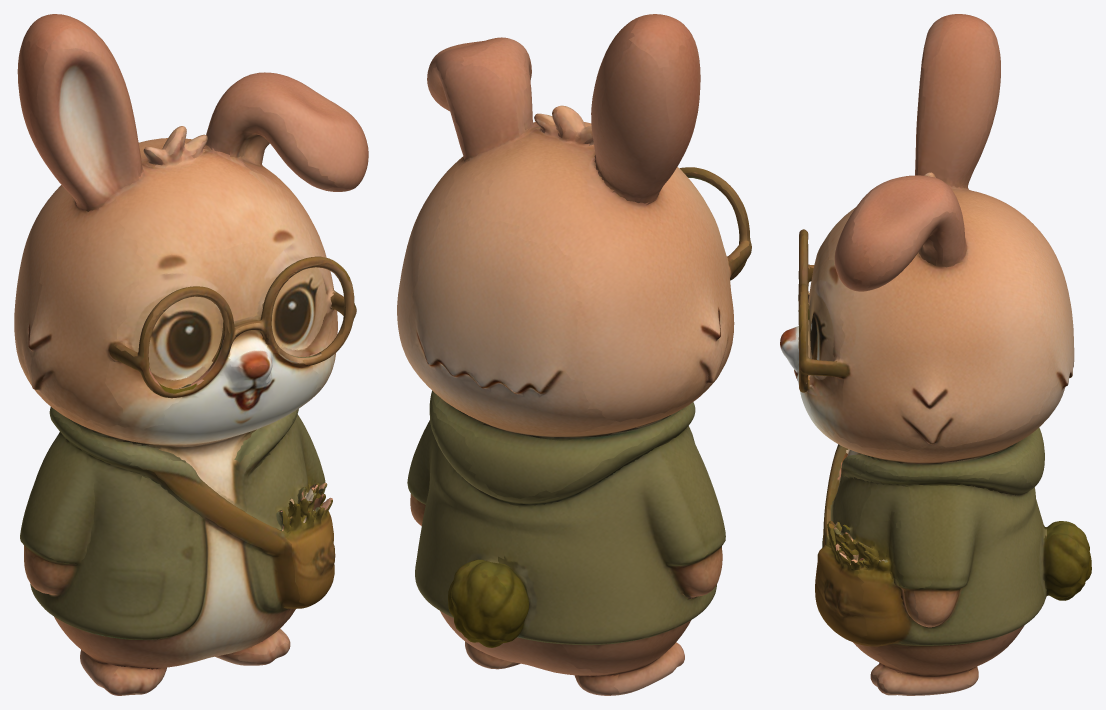
Rendered from rabbit_1.glb.
3 views of the same model, side by side, from view 1: azimuth 30°, elevation 25°; view 2: azimuth 150°, elevation 25°; view 3: azimuth 270°, elevation 25° (orthographic). The views are drawn at different scales.
Parts seen in each view (by area): view 1: tmpcec8cb47.ply; view 2: tmpcec8cb47.ply; view 3: tmpcec8cb47.ply.
Part boxes in pixels (x1=…): tmpcec8cb47.ply: x1=14, y1=14, x2=368, y2=695; tmpcec8cb47.ply: x1=397, y1=14, x2=751, y2=695; tmpcec8cb47.ply: x1=780, y1=14, x2=1091, y2=695.
Size of the model in its own units: 0.9537 by 1.97 by 0.9303.
1 material, 1 textured.
